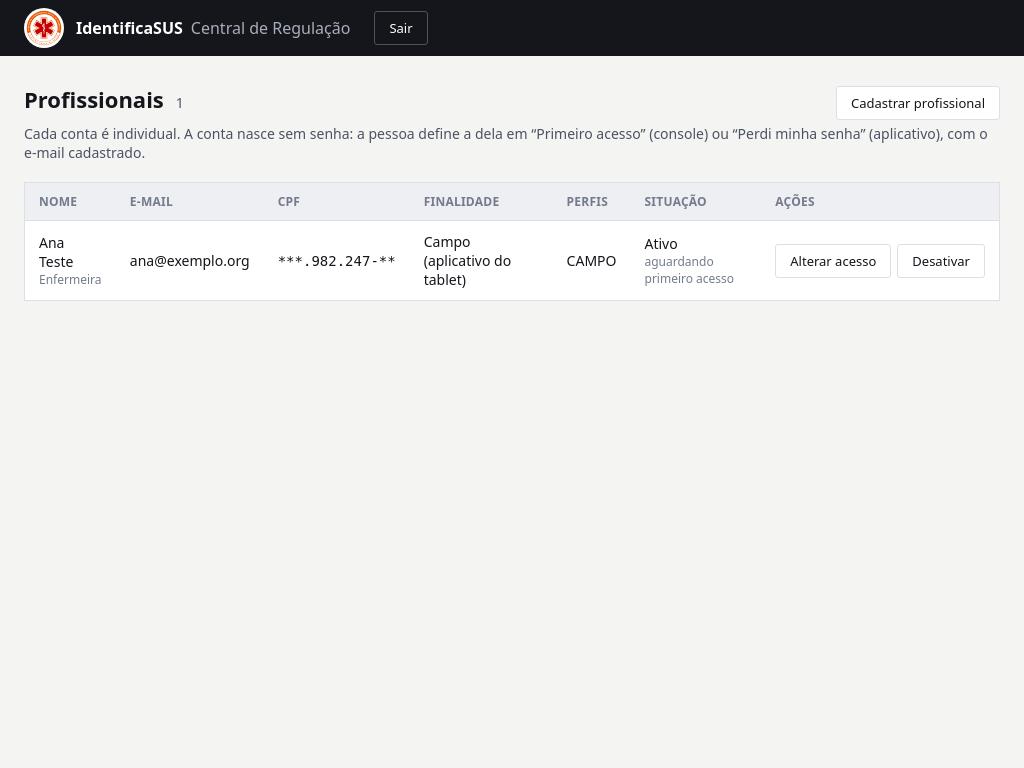
Test: profissionais › (!) cadastra sem campo de senha, e explica o primeiro acesso
The width and height of the screenshot is (1024, 768).
Click the button "Cadastrar profissional": (918,103) 836,86 -> 1000,120
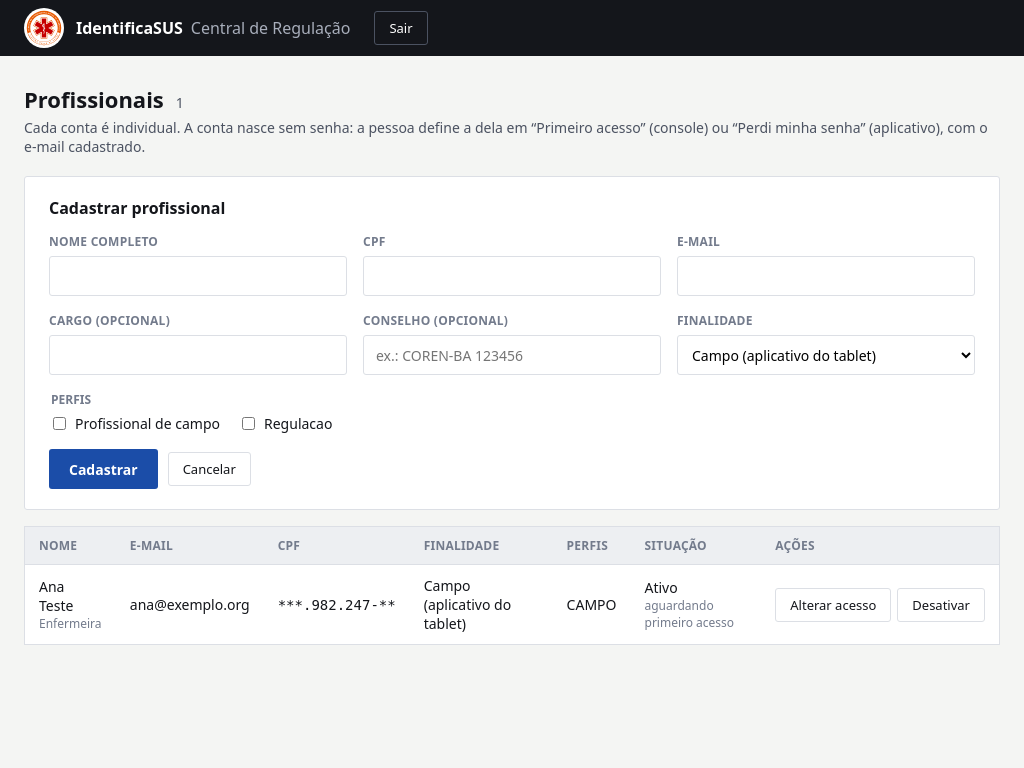
In the field labelled "Nome completo": (198,276) 49,256 -> 347,296, type "Bruno Teste"
In the field labelled "CPF": (512,276) 363,256 -> 661,296, type "529.982.247-25"
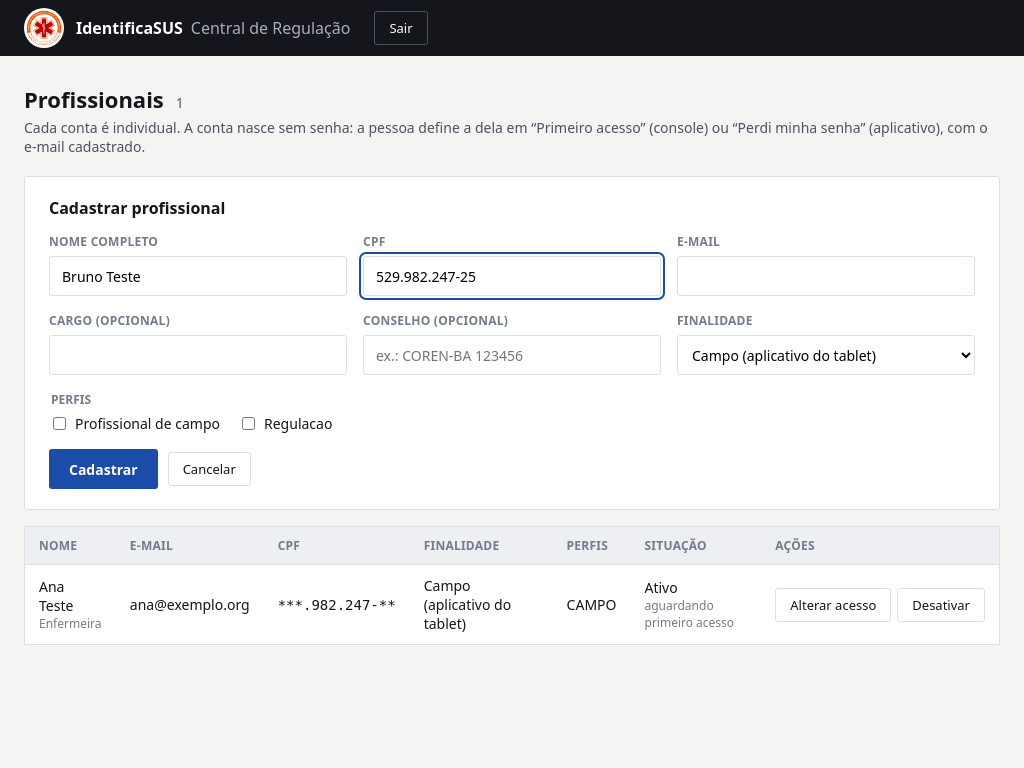
In the field labelled "E-mail": (826,276) 677,256 -> 975,296, type "bruno@exemplo.org"
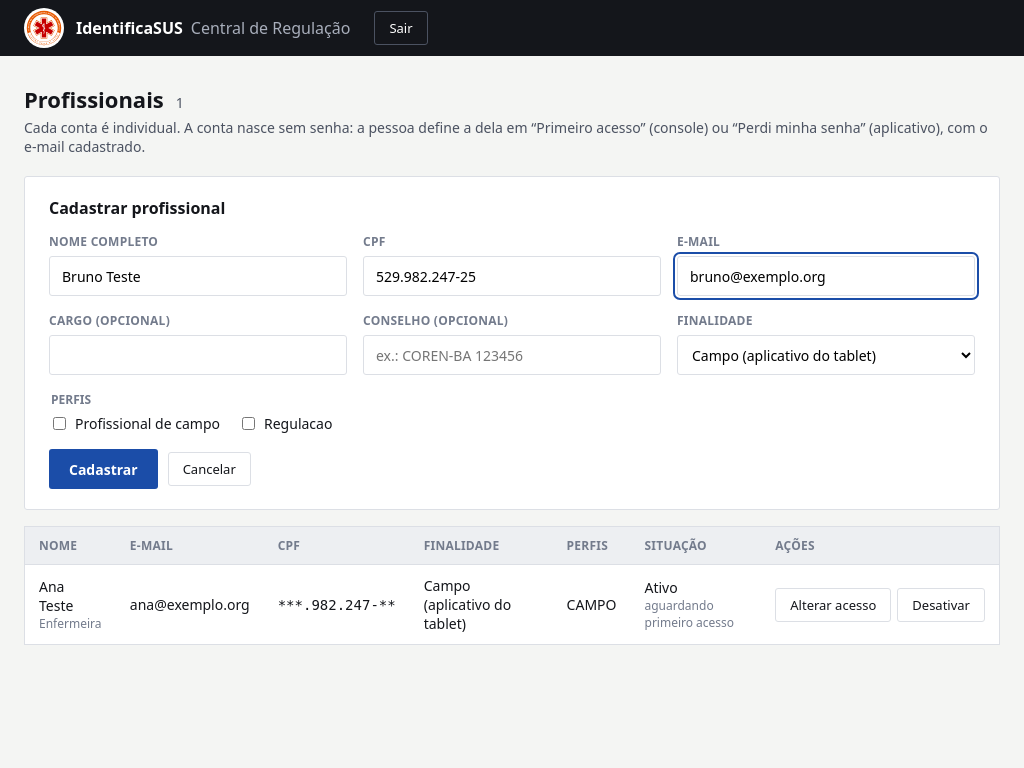
Select "Central de Regulação (console)" in the dropdown labelled "Finalidade": (826,355) 677,335 -> 975,375
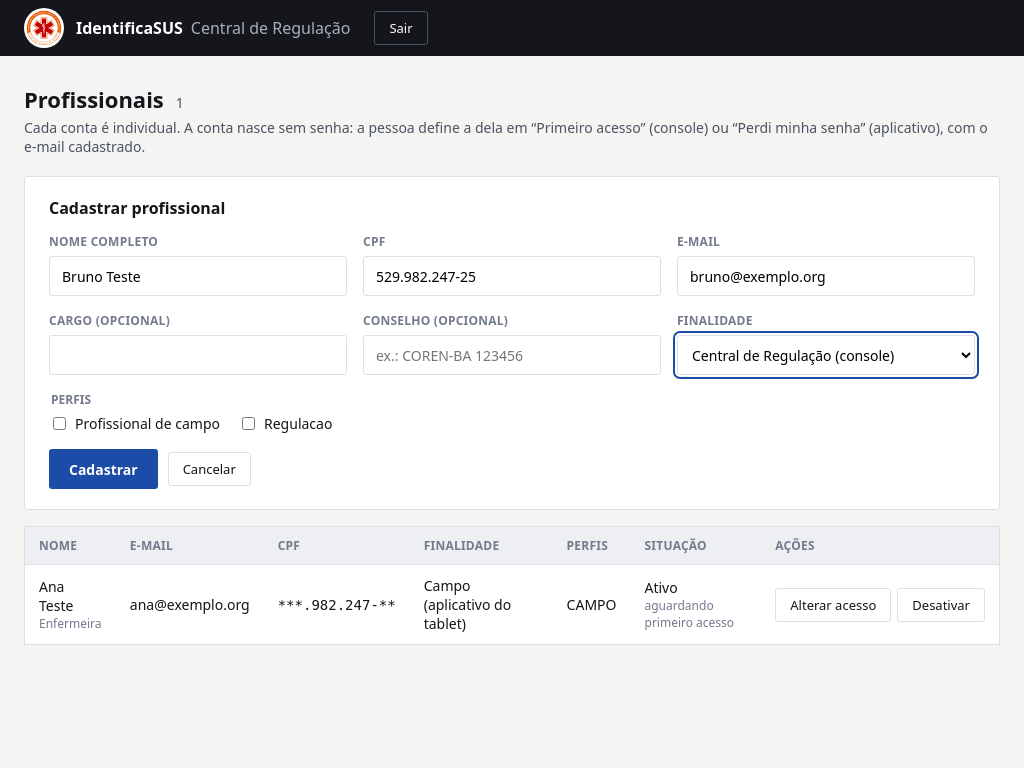
Click the checkbox labelled "Regulacao": (248,424) 242,417 -> 255,430
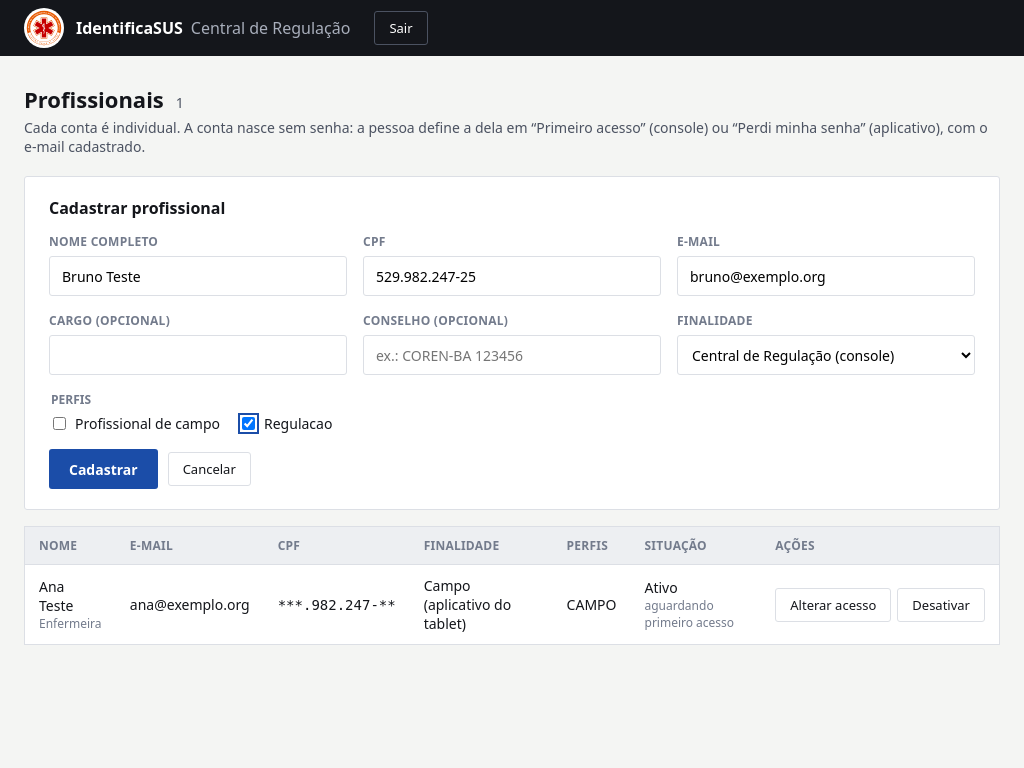
Click the button "Cadastrar": (103,469) 49,449 -> 158,489
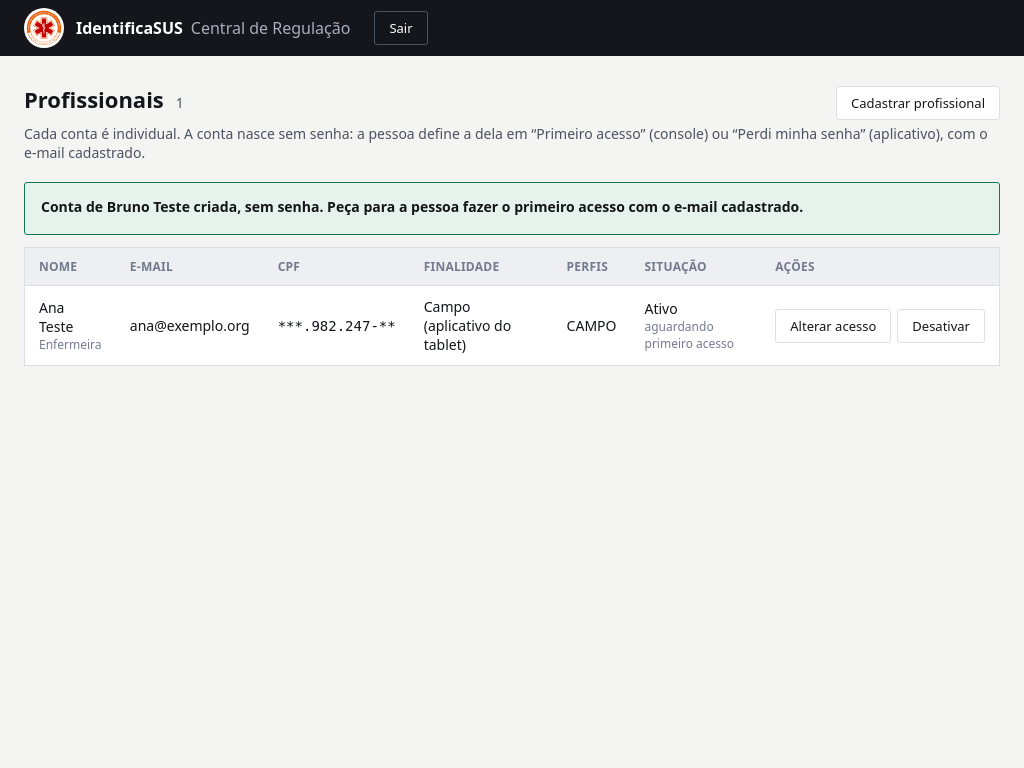
expect the text "Conta de Bruno Teste criada, sem senha" is shown: met, box 41,197 -> 803,216
